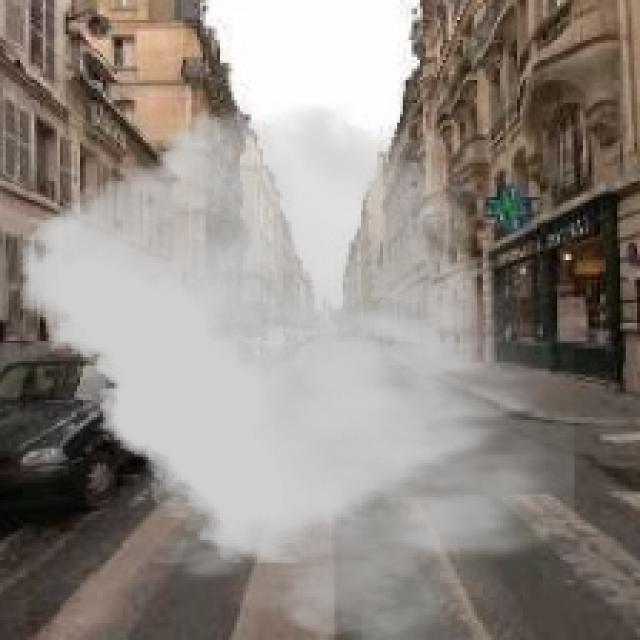Smoke: (20, 102, 577, 638)
